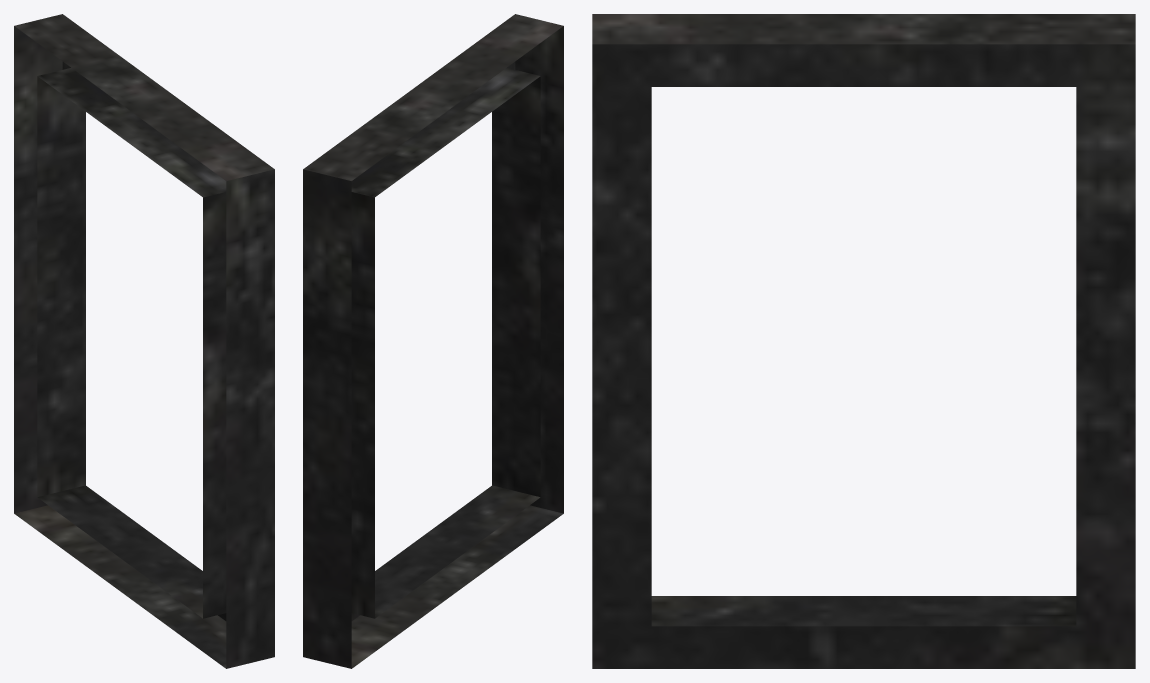
Rendered from WindowTrim_02.FBX.
3 views of the same model, side by side, from view 1: azimuth 30°, elevation 25°; view 2: azimuth 150°, elevation 25°; view 3: azimuth 270°, elevation 25° (orthographic). The views are drawn at different scales.
Parts seen in each view (by area): view 1: WindowTrim_02; view 2: WindowTrim_02; view 3: WindowTrim_02.
Boxes of the visible parts, x1,y1,x2,y2 form: WindowTrim_02: (14, 14, 274, 668); WindowTrim_02: (303, 14, 563, 668); WindowTrim_02: (592, 14, 1135, 668).
Size of the model in its own units: 17.13 by 164 by 130.
